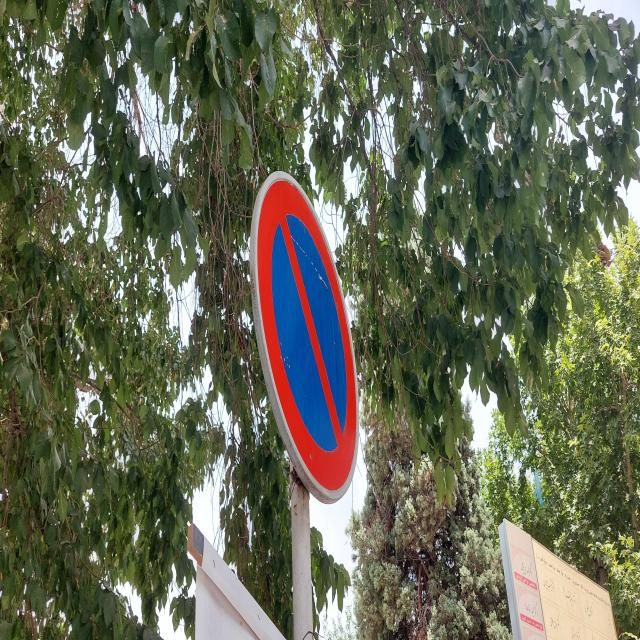forb_stopping: (249, 170, 359, 503)
